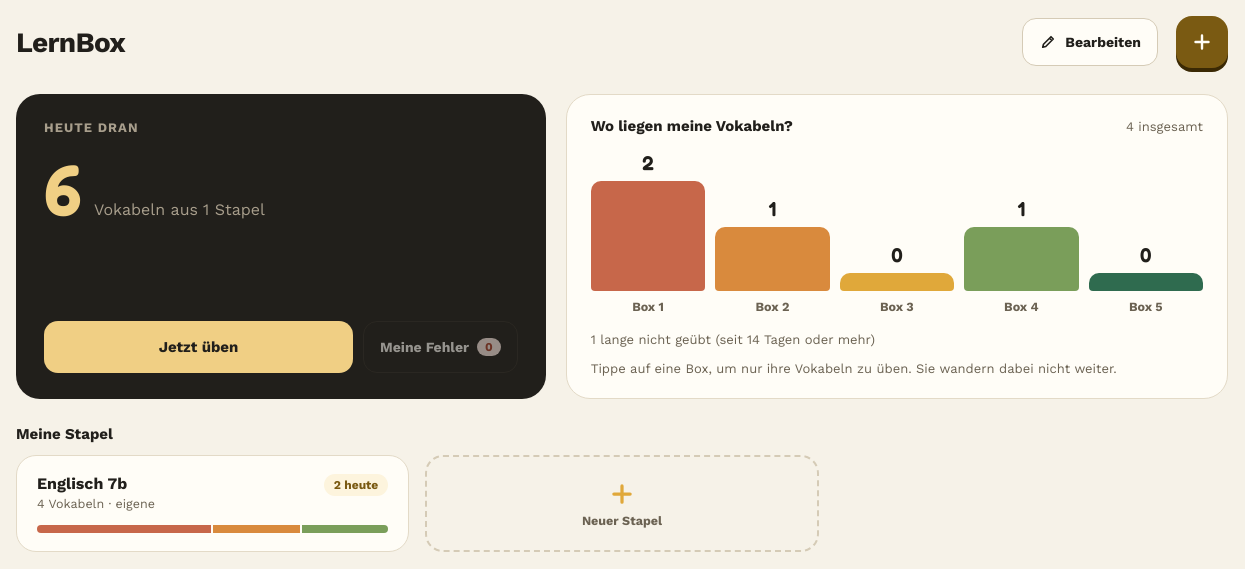
Test: LernBox: Schonfrist und Rückstufung nach Zeit › zeigt in der Kartenliste die wirksame Box und die Kennzeichnung einmal
The image size is (1245, 569).
Click the button "Bearbeiten": (1090, 42) top-left (1022, 18), bottom-right (1158, 66)
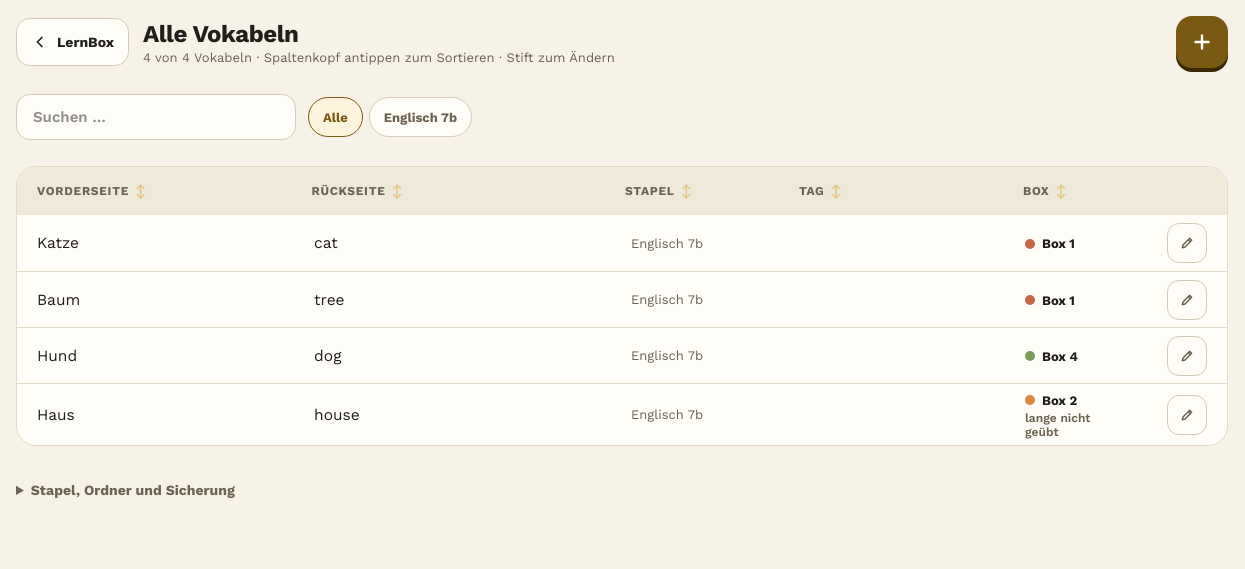
Expected: the text "Box 2" is shown, top-left (1025, 392), bottom-right (1077, 408)
Now the text "lange nicht geübt" is shown once, box top-left (1025, 411), bottom-right (1090, 439)
